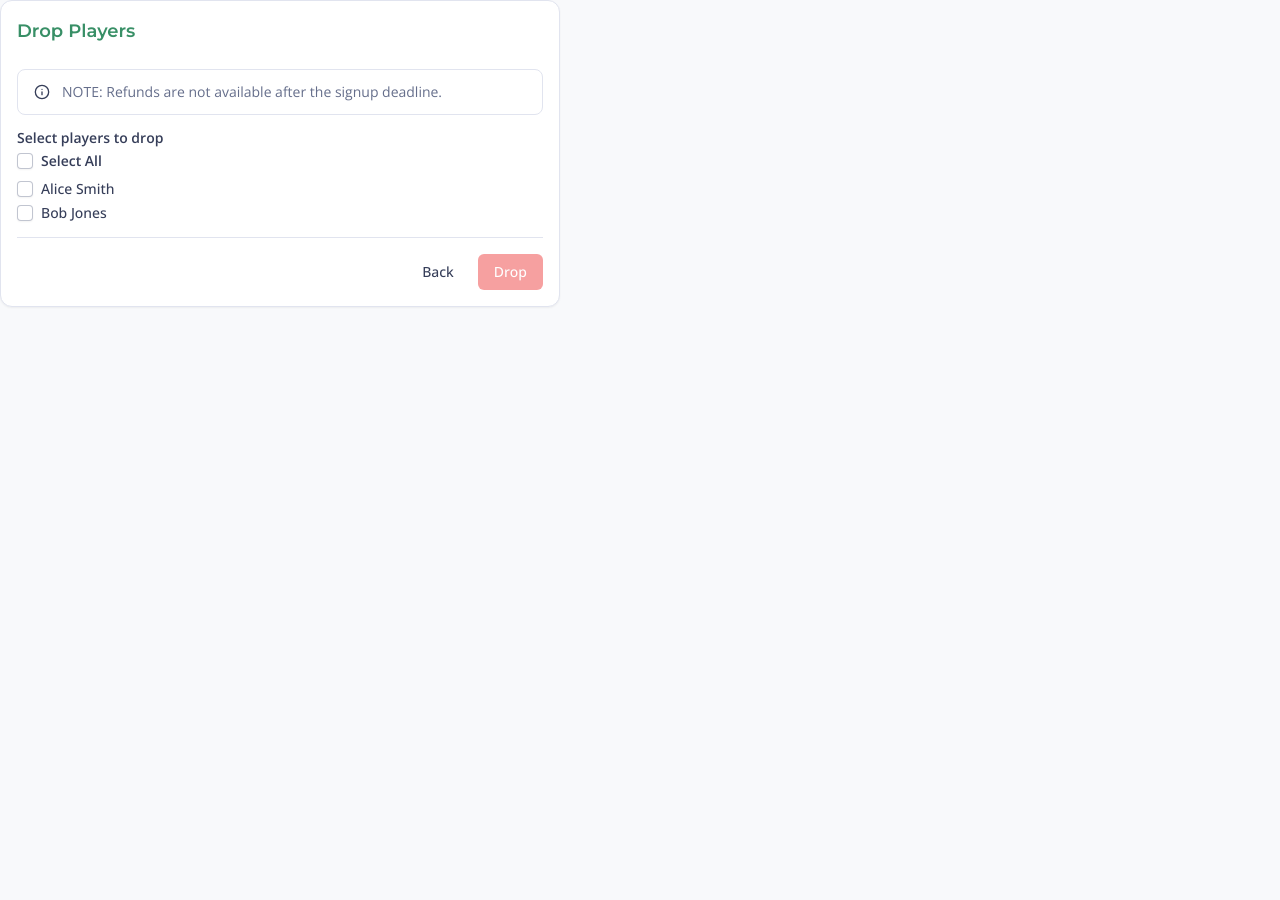
Test: confirmation dialog shows no-refund message after signup_end
Click the checkbox named "Alice Smith" next to "Alice Smith" at [25, 189], box [17,181,33,197]
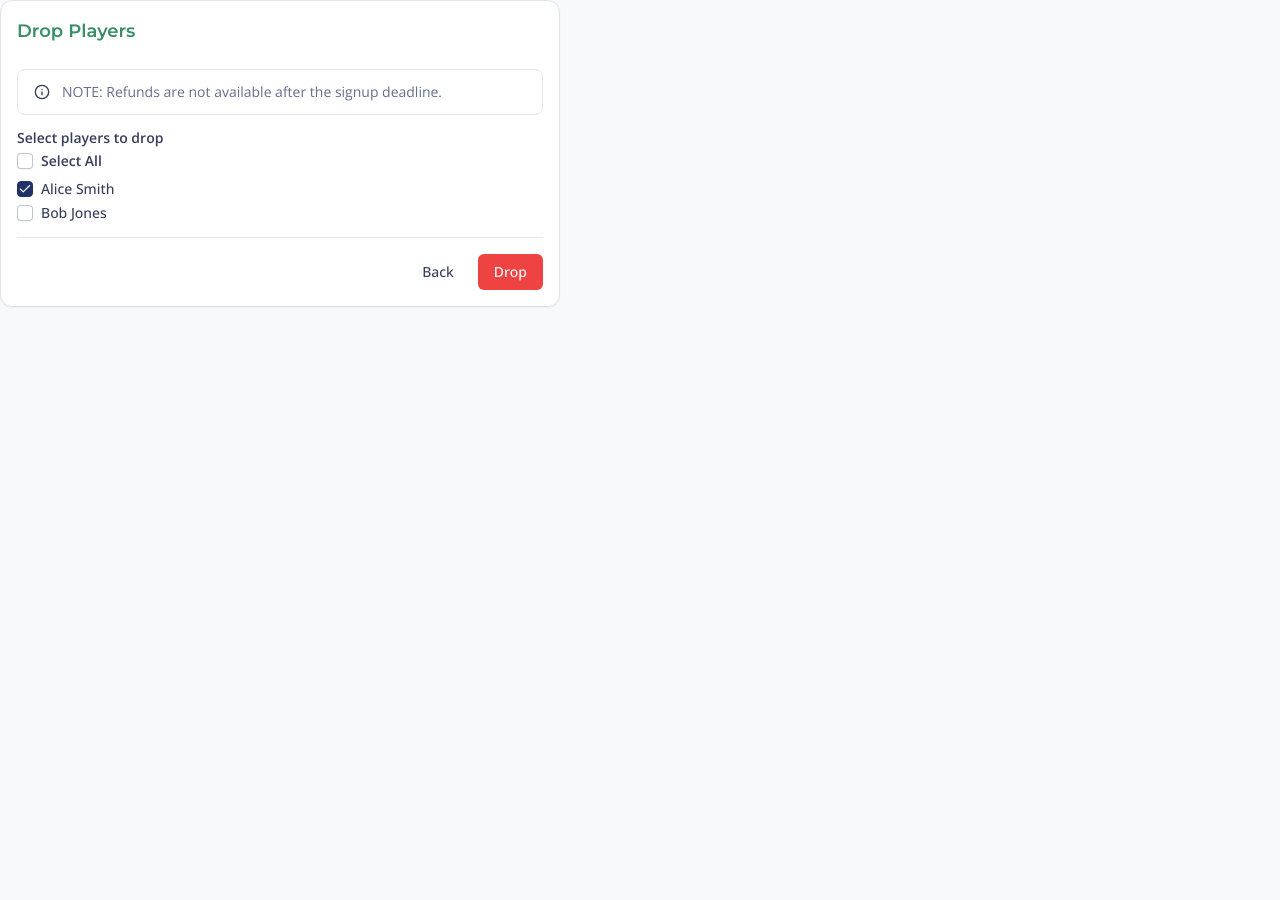
Click the button "Drop" at [510, 272], box [478,254,543,290]
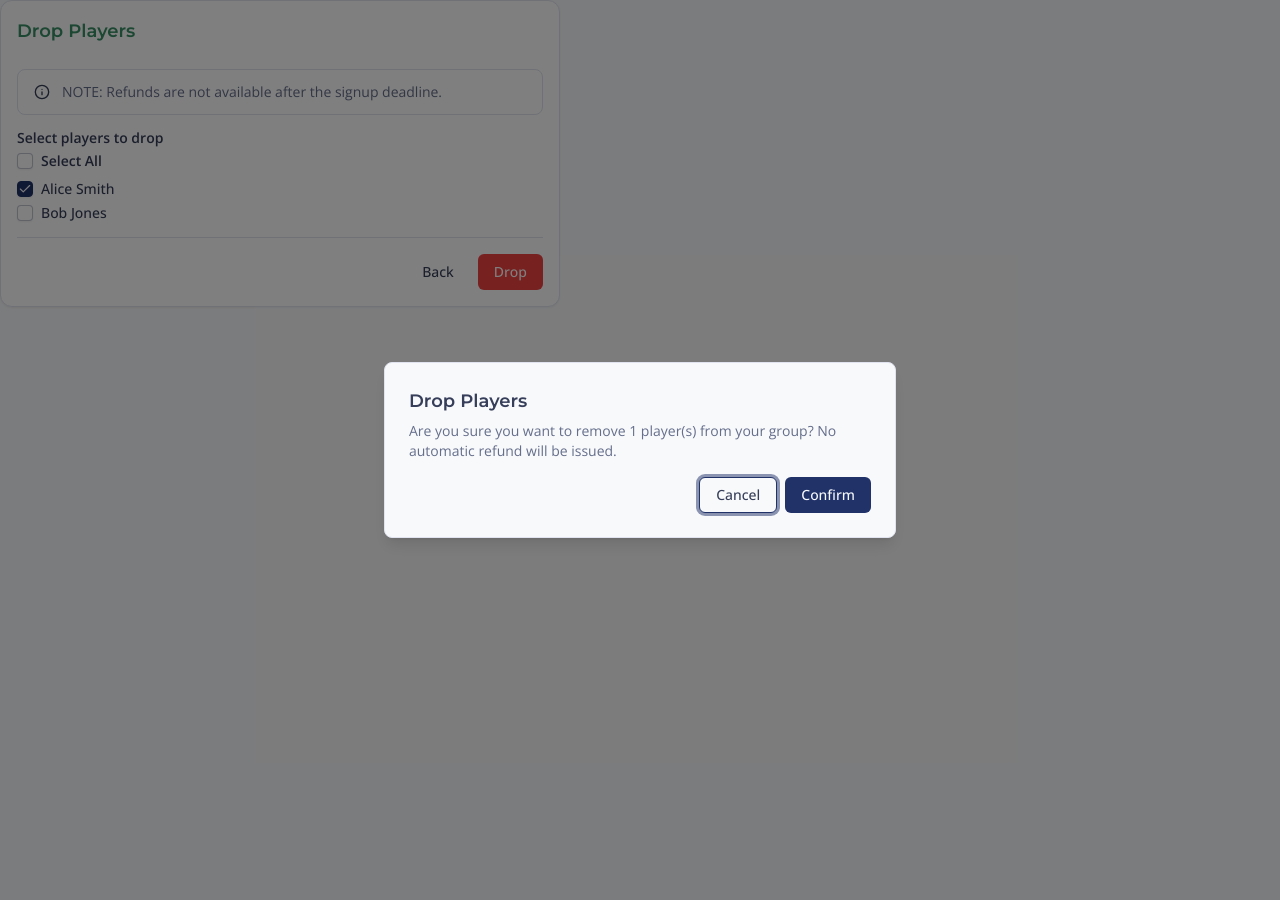
Check: the text "No automatic refund will be issued" is shown, box [409,421,836,460]
